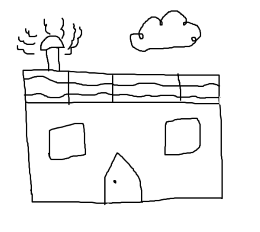clouds: (129, 10, 202, 51)
door: (99, 148, 144, 209)
open_window: (48, 122, 85, 159), (165, 117, 200, 156)
roof: (23, 69, 220, 104)
smoking_chimney: (12, 14, 91, 72)
wall: (20, 97, 227, 205)
